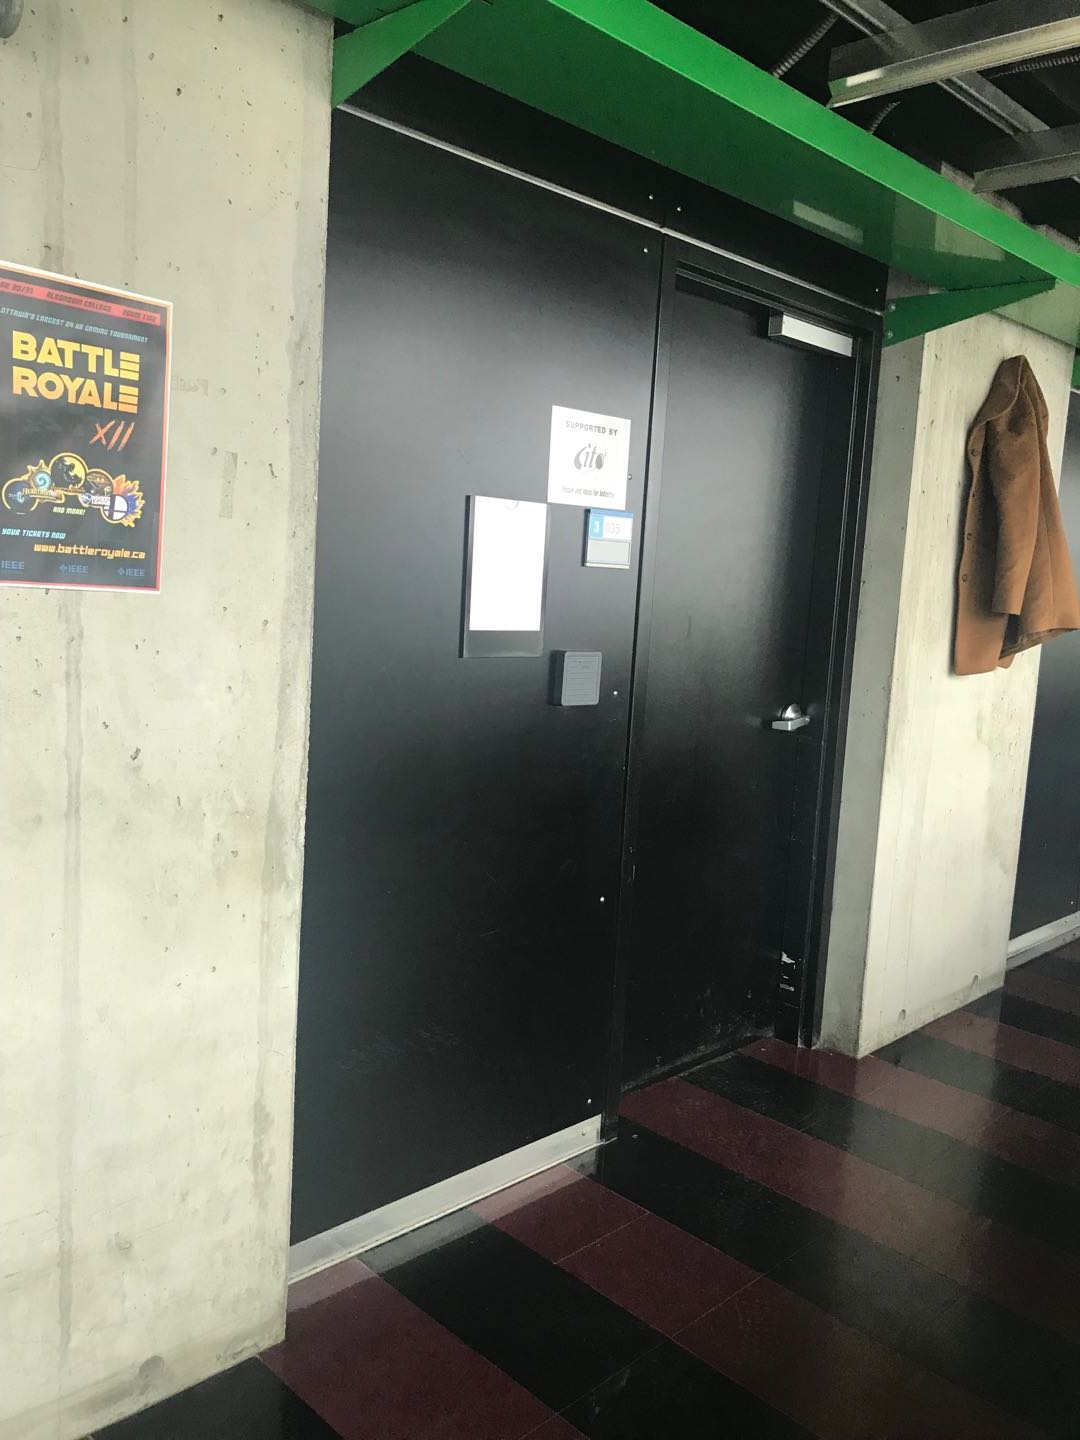door: (605, 265, 875, 1144)
sign: (552, 406, 634, 508), (588, 515, 634, 567)
